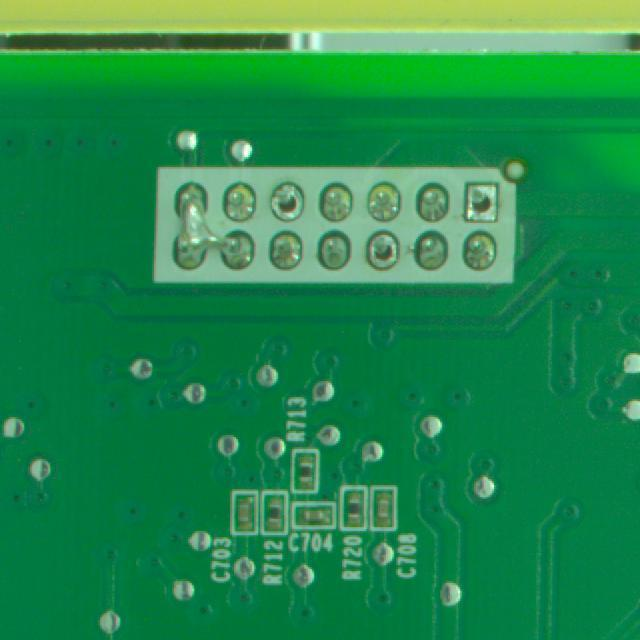Insufficient solder: (461, 181, 506, 227), (364, 226, 405, 272), (263, 178, 303, 219)
